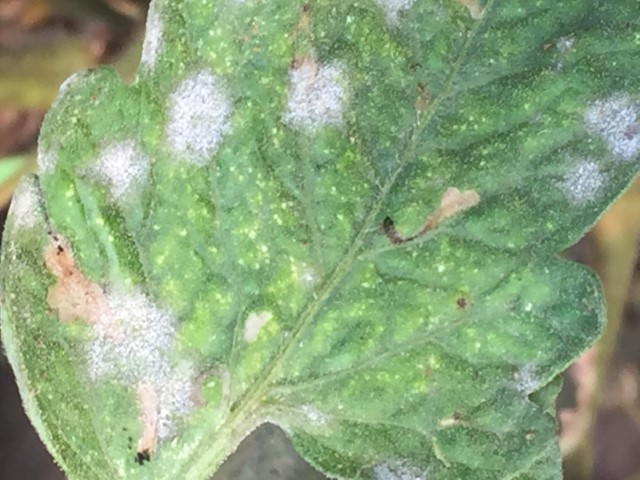oidio: (80, 283, 175, 386), (164, 66, 232, 169), (281, 56, 350, 137), (582, 89, 640, 161), (90, 138, 153, 203), (156, 358, 200, 441), (556, 157, 604, 205), (10, 182, 40, 230), (373, 455, 425, 480), (142, 4, 162, 68), (378, 1, 413, 29), (35, 140, 60, 173), (515, 362, 543, 391), (554, 32, 575, 48)
